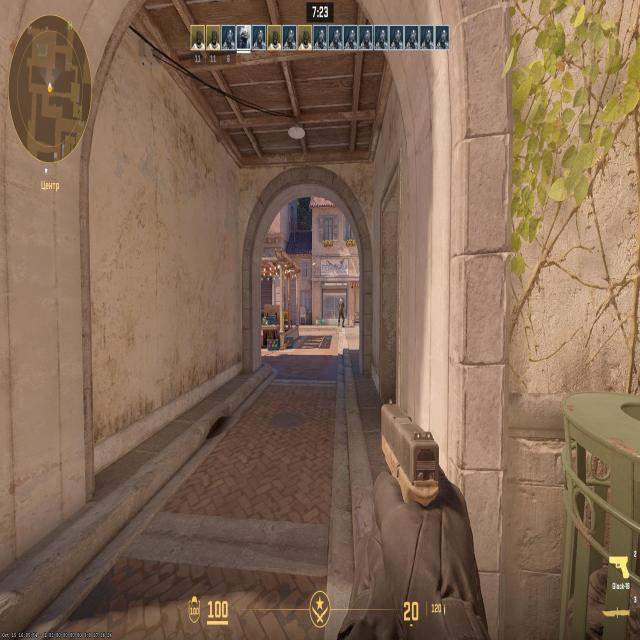CT: (337, 296, 344, 328)
CT_heat: (341, 298, 343, 302)
